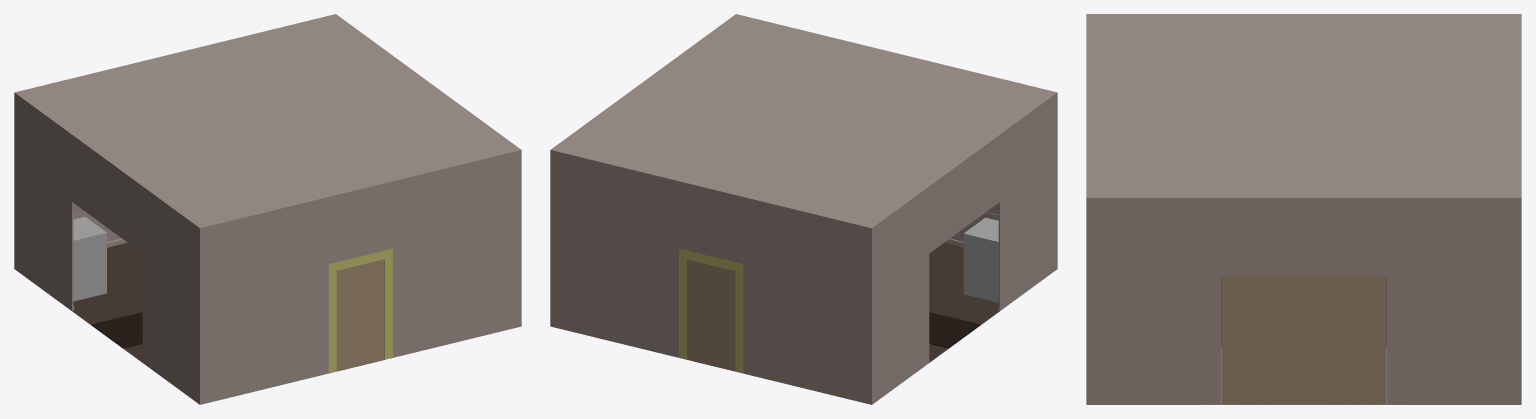
File: Room19_EntranceHall.fbx
The picture shows the model from 3 angles, left to right: view 1: azimuth 30°, elevation 25°; view 2: azimuth 150°, elevation 25°; view 3: azimuth 270°, elevation 25°; orthographic projection. The views are drawn at different scales.
Parts seen in each view (by area): view 1: Roof, WallSlicedPosZ, WallOpenPosX, DoorPosZ, Floor, obj299, DoorFramePosZ, obj296, WallSlicedNegZ, WallOpenNegX; view 2: Roof, WallSlicedNegZ, WallOpenPosX, DoorNegZ, Floor, obj298, DoorFrameNegZ, obj296, WallSlicedPosZ, WallOpenNegX; view 3: Roof, WallOpenNegX, MainDoor, WallSlicedPosZ, WallSlicedNegZ, WallOpenPosX.
Part boxes in pixels (x1,y1,x2,y2): Roof: [17, 15, 518, 227]; WallSlicedPosZ: [198, 149, 520, 404]; WallOpenPosX: [14, 92, 202, 404]; DoorPosZ: [336, 259, 384, 370]; Floor: [72, 242, 392, 373]; obj299: [73, 217, 106, 301]; DoorFramePosZ: [328, 248, 392, 372]; obj296: [91, 312, 142, 348]; WallSlicedNegZ: [14, 14, 335, 269]; WallOpenNegX: [335, 14, 521, 326]; Roof: [553, 15, 1054, 227]; WallSlicedNegZ: [550, 149, 872, 404]; WallOpenPosX: [869, 92, 1057, 404]; DoorNegZ: [687, 259, 735, 370]; Floor: [679, 242, 999, 373]; obj298: [963, 217, 998, 302]; DoorFrameNegZ: [679, 248, 743, 372]; obj296: [929, 312, 980, 348]; WallSlicedPosZ: [736, 14, 1057, 269]; WallOpenNegX: [550, 14, 736, 326]; Roof: [1088, 14, 1519, 197]; WallOpenNegX: [1086, 197, 1521, 404]; MainDoor: [1221, 276, 1386, 404]; WallSlicedPosZ: [1086, 14, 1088, 404]; WallSlicedNegZ: [1519, 14, 1521, 404]; WallOpenPosX: [1086, 14, 1521, 14].
Bounding box in the file's own units: 100 × 52.5 × 100.
